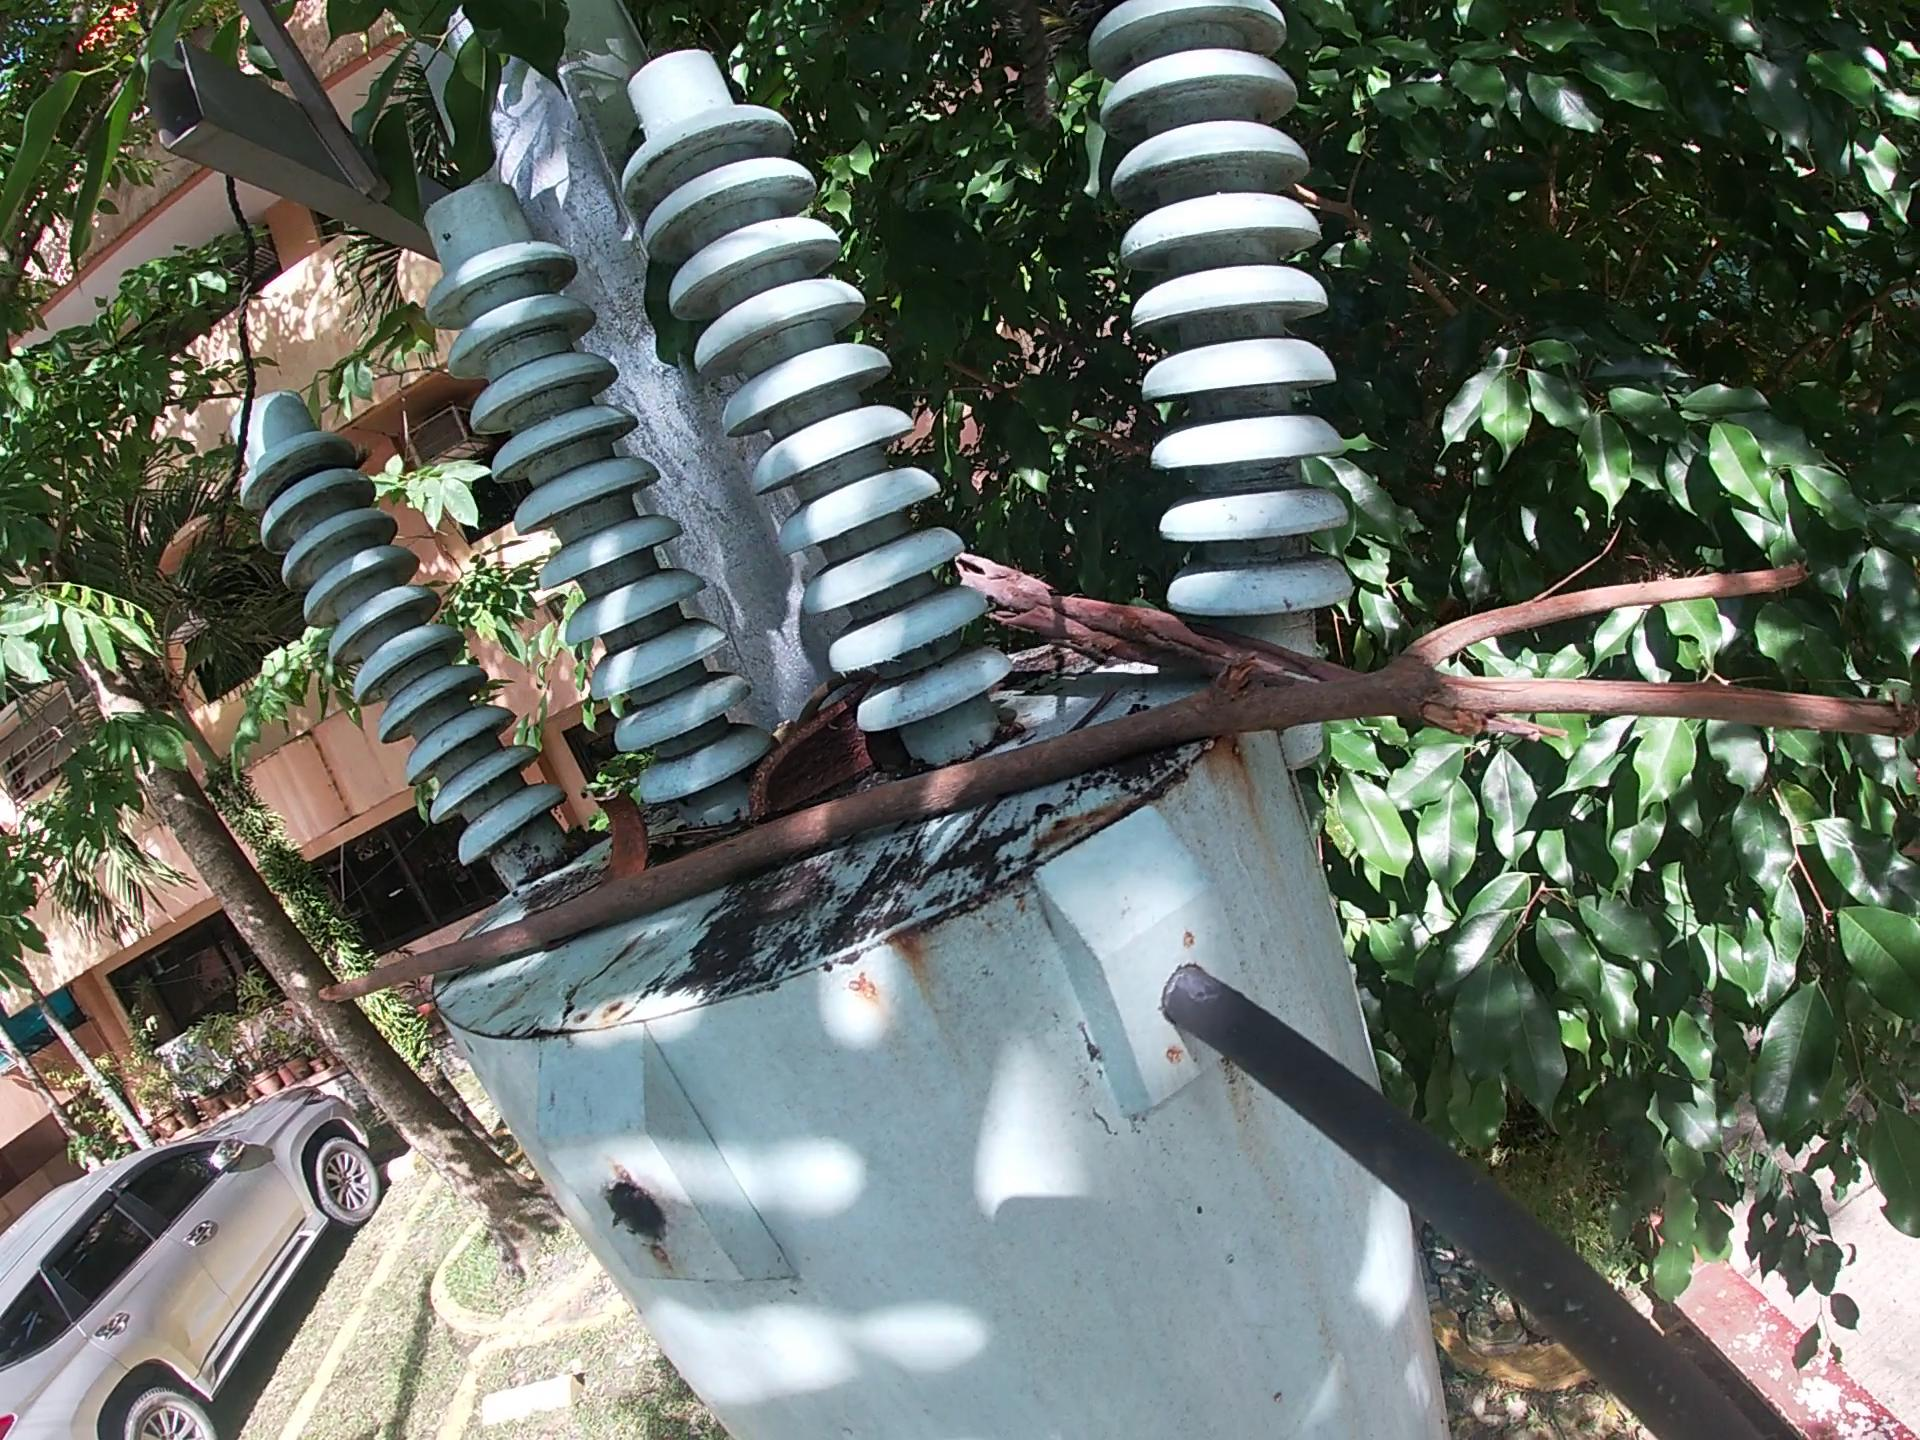mahogany fruit: (742, 682, 881, 827), (588, 782, 658, 892)
tree branch: (311, 545, 1918, 1012), (949, 551, 1572, 755)
